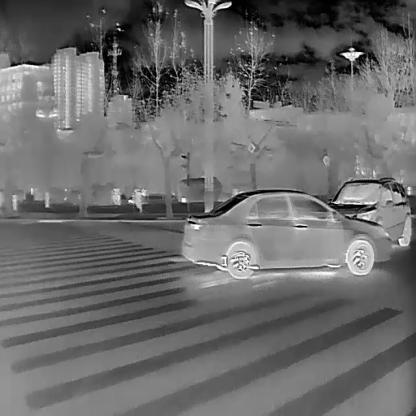car: (180, 187, 393, 279), (326, 175, 412, 246)
